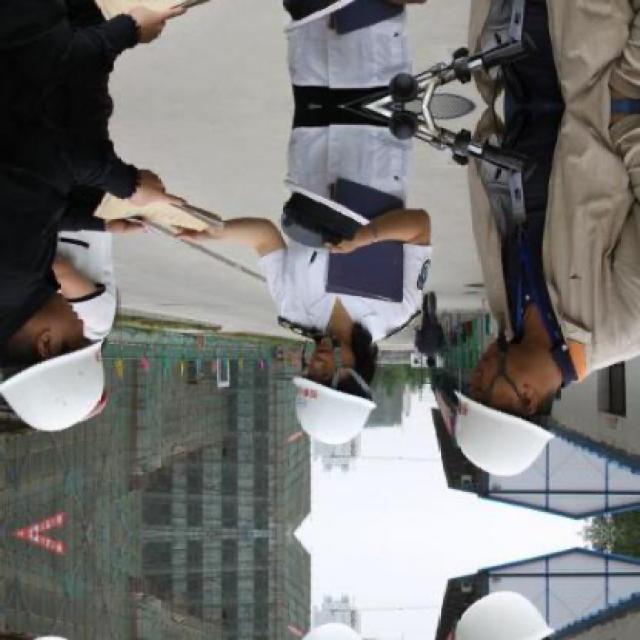con casco: (389, 356, 554, 489), (0, 316, 120, 435), (262, 368, 386, 454)
